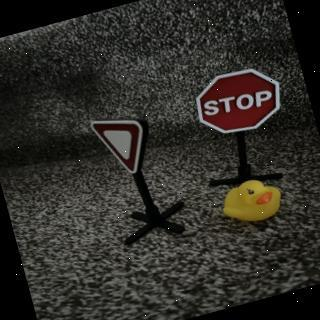duck_regular: (218, 174, 289, 231)
sign_stop: (191, 62, 291, 145)
sign_yield: (92, 109, 161, 182)
